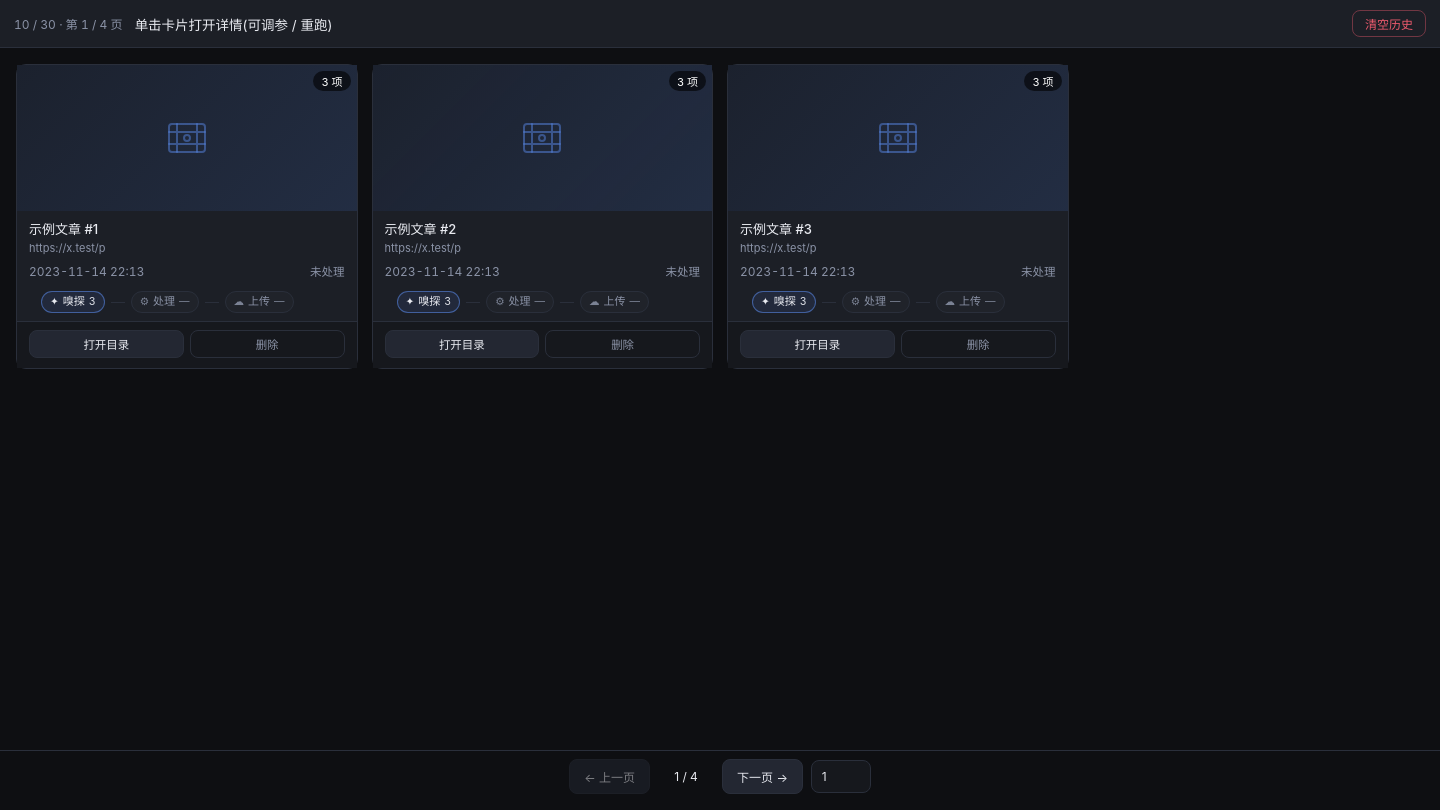
it: HistoryPanel pagination (R-84) › jump-to-page input clamps and navigates
Replace the text in the number field named "跳转到页码" with "99" at (841, 776), box [811,760,871,793]
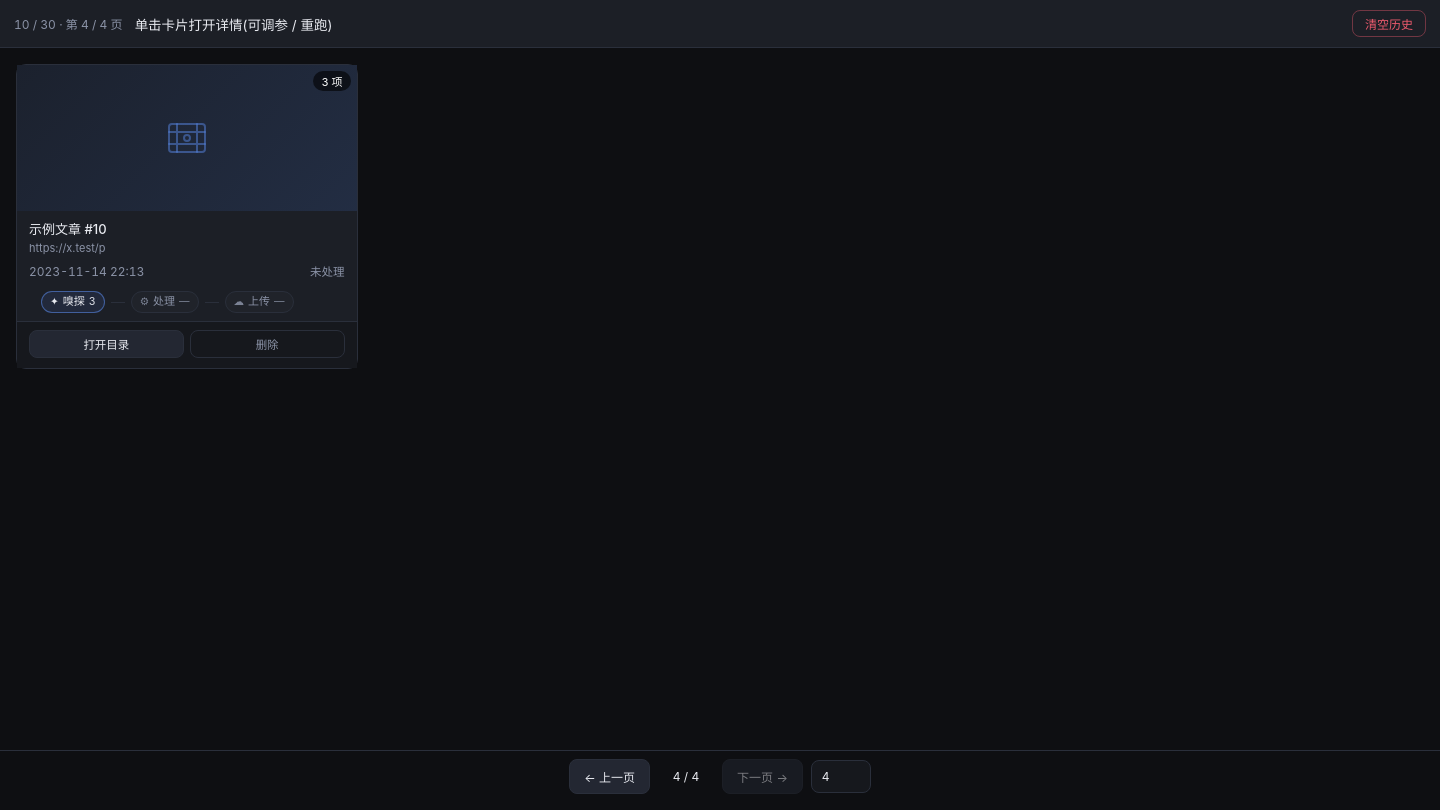
Now the text "示例文章 #10" is shown, box [29,220,107,236]
